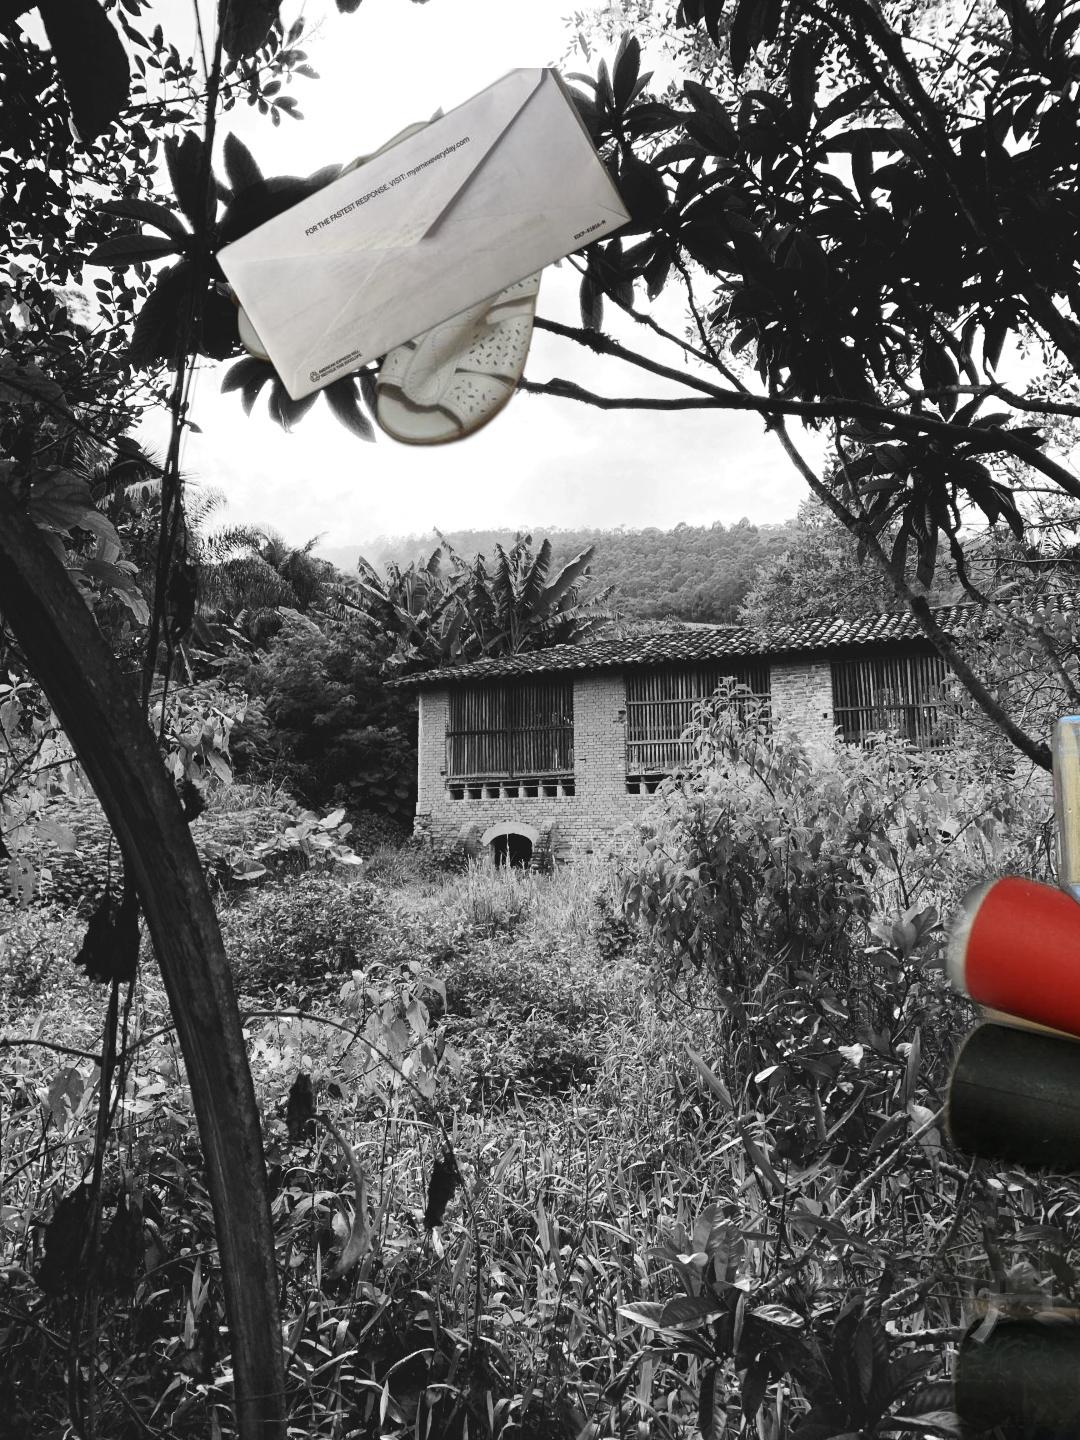paper: (211, 68, 638, 404)
penholder: (827, 853, 1080, 1440), (189, 1406, 1080, 1440)
plastic-bottles: (1047, 706, 1080, 946)
shoes: (227, 116, 555, 454)
